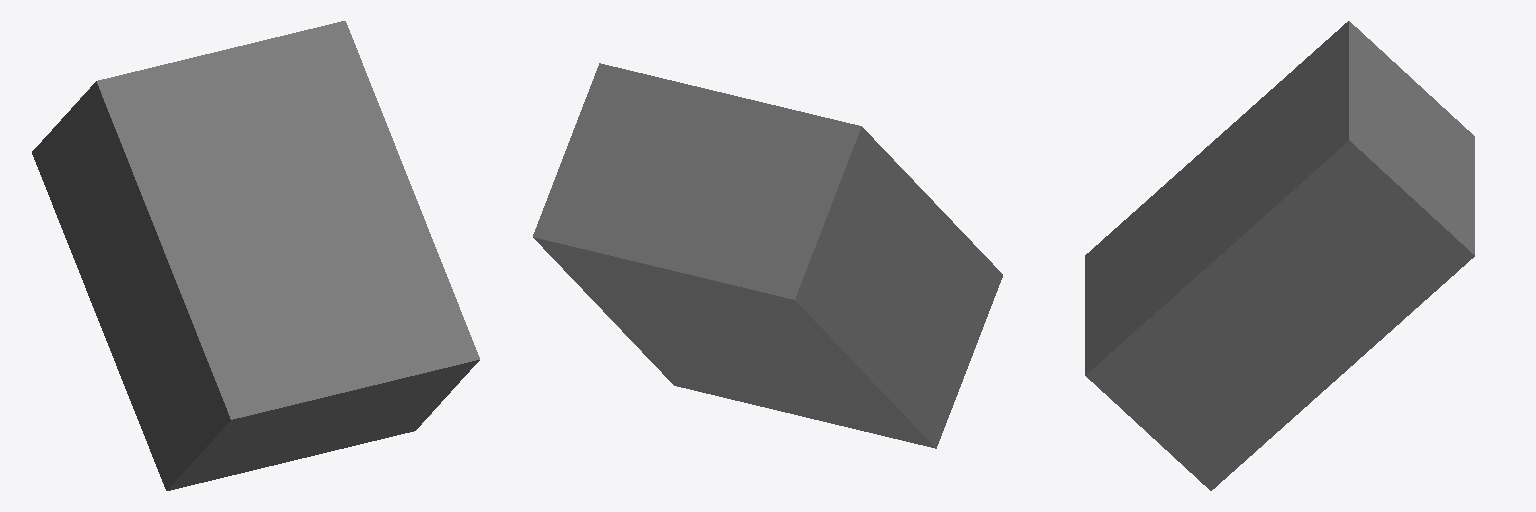
robot.urdf — brick:
<?xml version="1.0"?>
<robot name="brick">
  <link name="base">
    <visual>
      <geometry>
        <mesh filename="brick_x-1-0.obj" scale="1 1 1"/>
      </geometry>
      <material name="gray">
        <color rgba="0.5 0.5 0.5 1.0"/>
      </material>
    </visual>
    <collision>
      <geometry>
        <mesh filename="brick_x-1-0.obj" scale="1 1 1"/>
      </geometry>
    </collision>
    <inertial>
      <mass value="1.0"/>
      <inertia
          ixx="0.01" ixy="0.0" ixz="0.0"
          iyy="0.01" iyz="0.0"
          izz="0.01"/>
      <origin xyz="0.003 -0.157 0.943" rpy="0 0 0"/>
    </inertial>
  </link>
</robot>

--- Facts derived from the render (not from the file) ---
3 views of the same robot in one strip: view 1: azimuth 30°, elevation 25°; view 2: azimuth 150°, elevation 25°; view 3: azimuth 270°, elevation 25° (orthographic).
Robot: brick — 1 links, 0 joints (none); root link base; default pose: every joint at zero.
Links seen in each view (by area): view 1: base; view 2: base; view 3: base.
Boxes of the visible links, x1,y1,x2,y2 form: base: (32, 21, 479, 490); base: (533, 63, 1002, 448); base: (1085, 21, 1474, 490).
Size in the robot's own frame: 0.2327 by 0.3212 by 0.3194 metres.
1 mesh visuals loaded from 1 distinct referenced files (1 OBJ).
